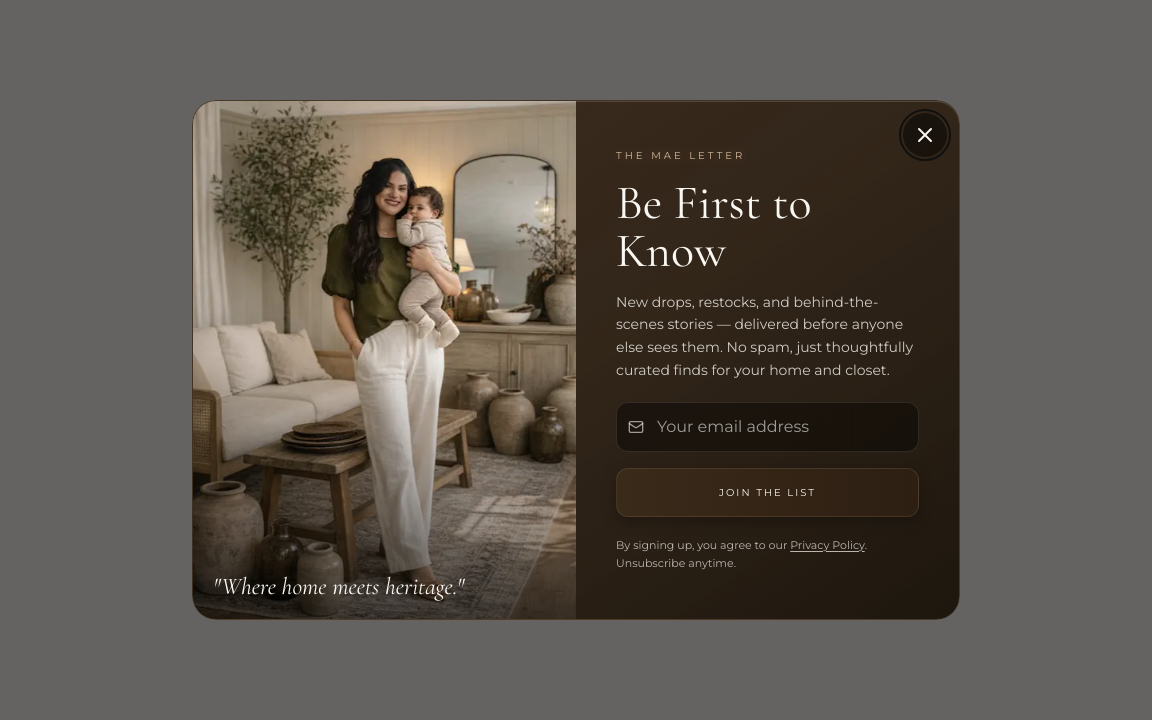
Test: Newsletter popup › shows duplicate feedback inline without claiming a new signup
This screenshot has width=1152, height=720.
Step 1. Type "reader@example.com" into the field → (768, 427), box [616,402,919,452]
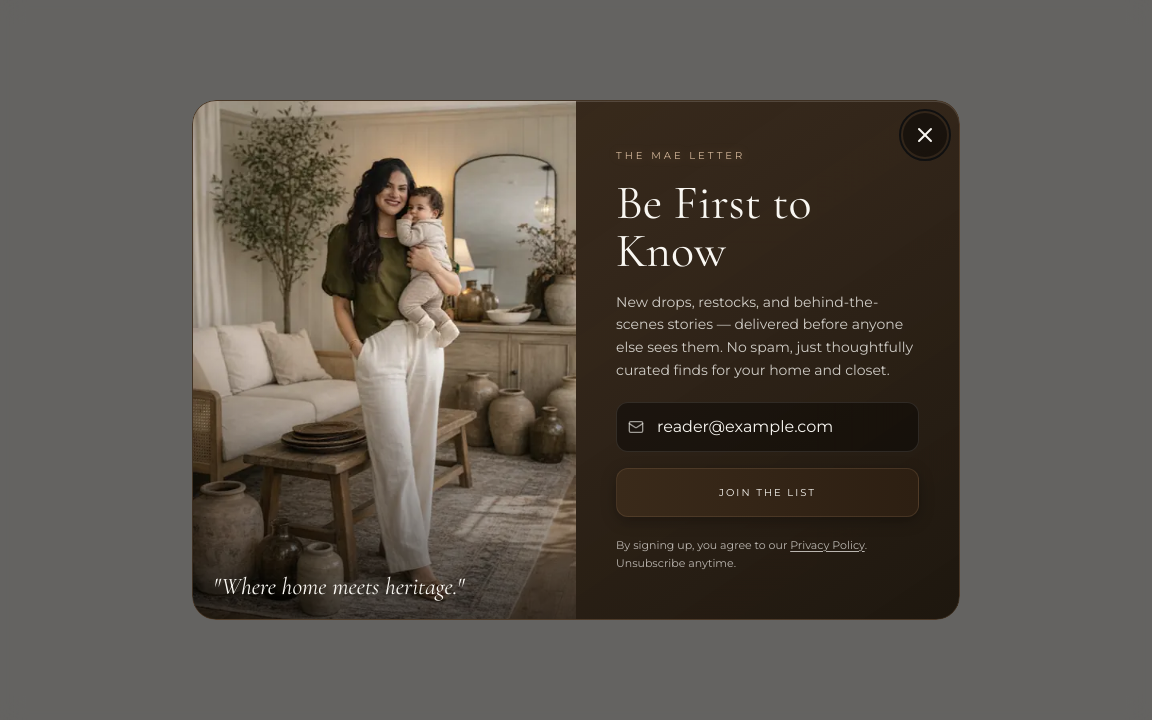
Step 2. Submit the form "Join the List", box [616,402,919,517]
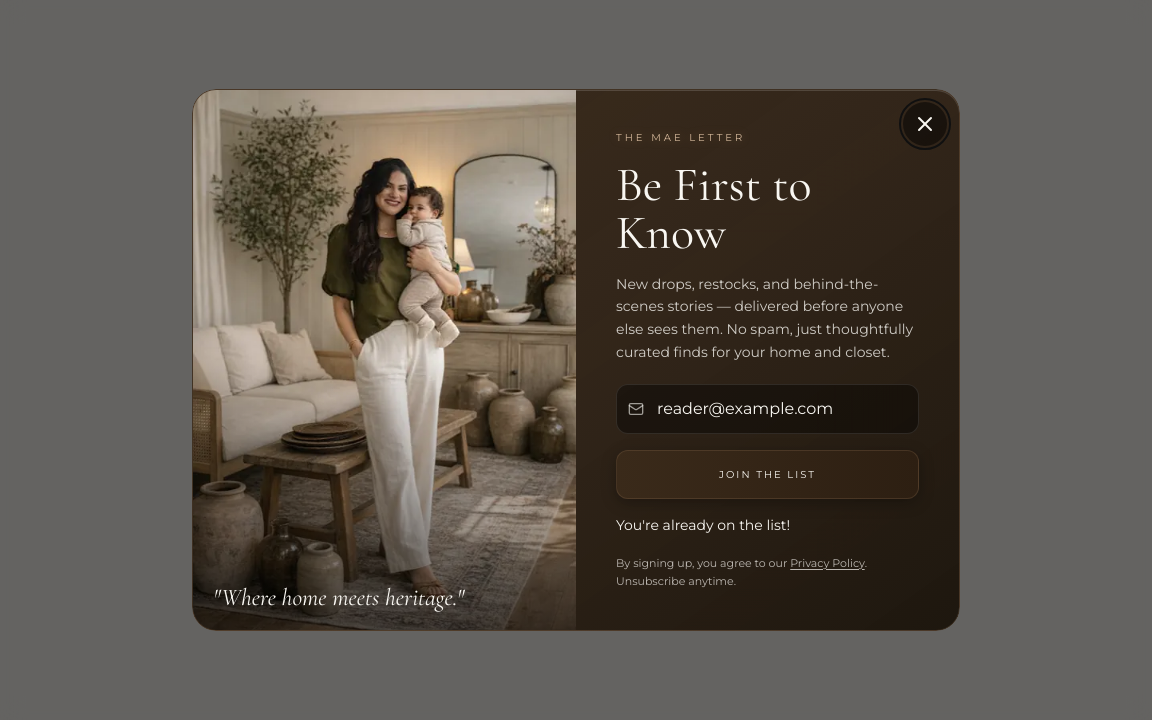
expect the message shows "already on the list": met, box [616,516,790,534]
